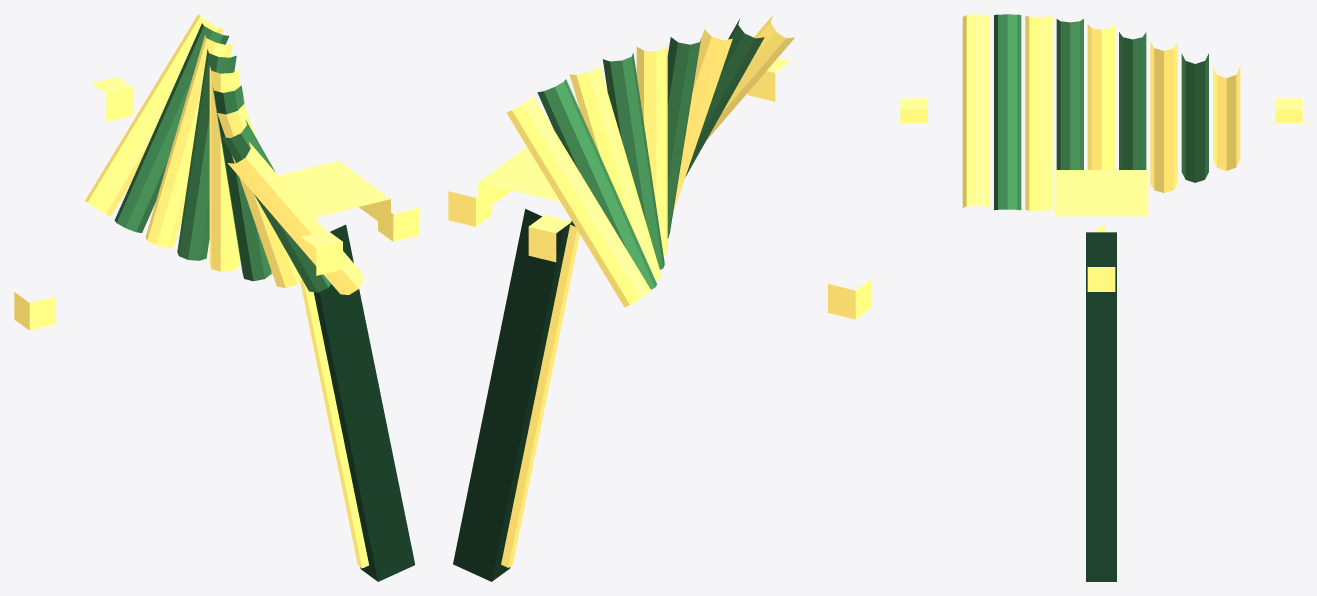
Rendered from medusa.glb.
3 views of the same model, side by side, from view 1: azimuth 30°, elevation 25°; view 2: azimuth 150°, elevation 25°; view 3: azimuth 270°, elevation 25° (orthographic). The views are drawn at different scales.
Parts seen in each view (by area): view 1: medusa-gorgon-bow, medusa-snake-0, medusa-snake-1, medusa-snake-2, medusa-snake-8, medusa-snake-3, medusa-stone-gaze, medusa-snake-4, medusa-bow-string, medusa-snake-5, medusa-snake-6, medusa-snake-7 (+4 smaller); view 2: medusa-gorgon-bow, medusa-snake-0, medusa-snake-1, medusa-snake-2, medusa-snake-3, medusa-bow-string, medusa-snake-4, medusa-snake-5, medusa-snake-6, medusa-stone-gaze, medusa-snake-7, medusa-snake-8 (+4 smaller); view 3: medusa-gorgon-bow, medusa-snake-7, medusa-snake-6, medusa-snake-8, medusa-stone-gaze, medusa-snake-5, medusa-snake-4, medusa-snake-2, medusa-snake-3, medusa-snake-1, medusa-snake-0, medusa-flair-mote-0 (+2 smaller).
Boxes of the visible parts, x1,y1,x2,y2 form: medusa-gorgon-bow: (314, 224, 415, 581); medusa-snake-0: (85, 14, 223, 216); medusa-snake-1: (114, 23, 229, 232); medusa-snake-2: (145, 35, 233, 247); medusa-snake-8: (228, 142, 363, 294); medusa-snake-3: (177, 49, 236, 260); medusa-stone-gaze: (278, 160, 390, 230); medusa-snake-4: (209, 66, 239, 271); medusa-bow-string: (300, 279, 368, 568); medusa-snake-5: (212, 85, 271, 281); medusa-snake-6: (217, 101, 301, 287); medusa-snake-7: (222, 119, 330, 292); medusa-gorgon-bow: (453, 209, 575, 581); medusa-snake-0: (507, 96, 651, 307); medusa-snake-1: (537, 79, 656, 289); medusa-snake-2: (569, 64, 661, 280); medusa-snake-3: (602, 53, 664, 269); medusa-bow-string: (501, 224, 579, 567); medusa-snake-4: (636, 43, 667, 255); medusa-snake-5: (667, 37, 701, 238); medusa-snake-6: (673, 26, 732, 211); medusa-stone-gaze: (478, 147, 560, 214); medusa-snake-7: (685, 19, 764, 177); medusa-snake-8: (706, 15, 794, 140); medusa-gorgon-bow: (1086, 232, 1116, 581); medusa-snake-7: (994, 14, 1021, 210); medusa-snake-6: (1025, 15, 1052, 211); medusa-snake-8: (962, 14, 989, 207); medusa-stone-gaze: (1054, 170, 1148, 216); medusa-snake-5: (1056, 19, 1083, 169); medusa-snake-4: (1087, 24, 1115, 169); medusa-snake-2: (1150, 42, 1177, 192); medusa-snake-3: (1119, 32, 1146, 169); medusa-snake-1: (1181, 53, 1208, 182); medusa-snake-0: (1213, 66, 1240, 170); medusa-flair-mote-0: (1087, 267, 1115, 291).
Bounding box in the file's own units: 1.03 × 1.37 × 1.03.
